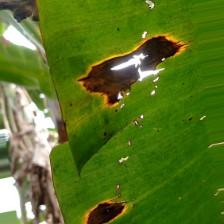cordana: (36, 0, 224, 224)
